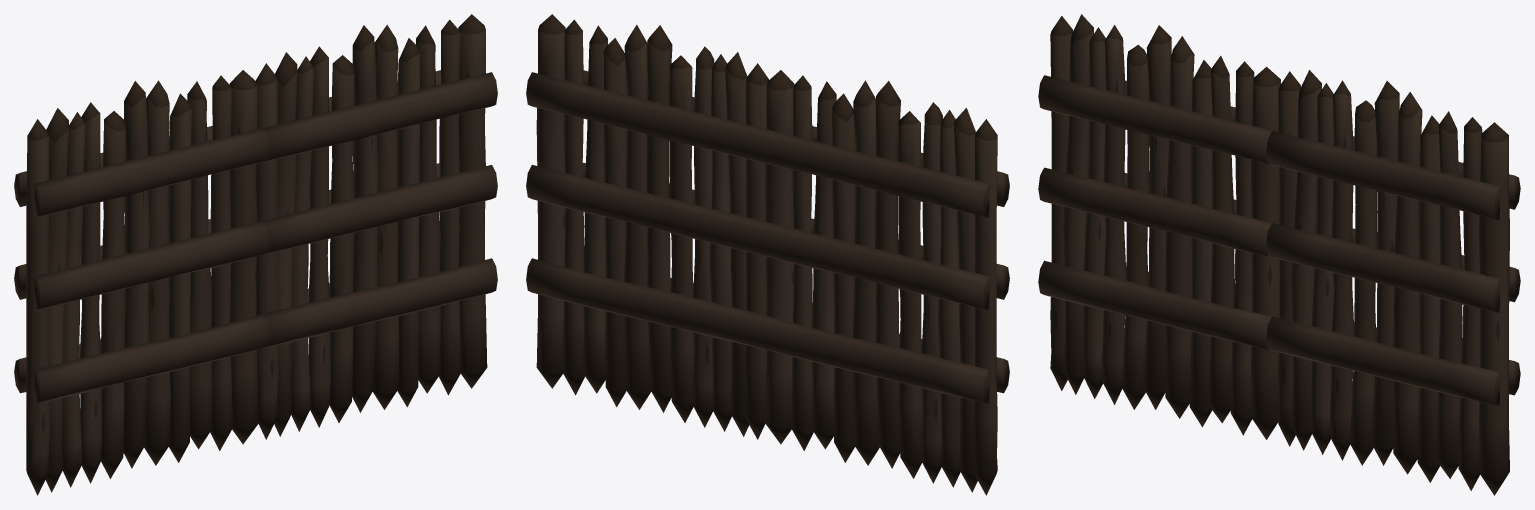
File: furnishings-barriers-palisade_v1.glb
The picture shows the model from 3 angles, left to right: view 1: azimuth 30°, elevation 25°; view 2: azimuth 150°, elevation 25°; view 3: azimuth 330°, elevation 25°; orthographic projection.
Parts seen in each view (by area): view 1: Palisade.001; view 2: Palisade.001; view 3: Palisade.001.
Boxes of the visible parts, x1,y1,x2,y2 form: Palisade.001: (14, 14, 497, 495); Palisade.001: (526, 14, 1009, 495); Palisade.001: (1038, 14, 1520, 495).
Size of the model in its own units: 6.41 by 5.26 by 0.6757.
